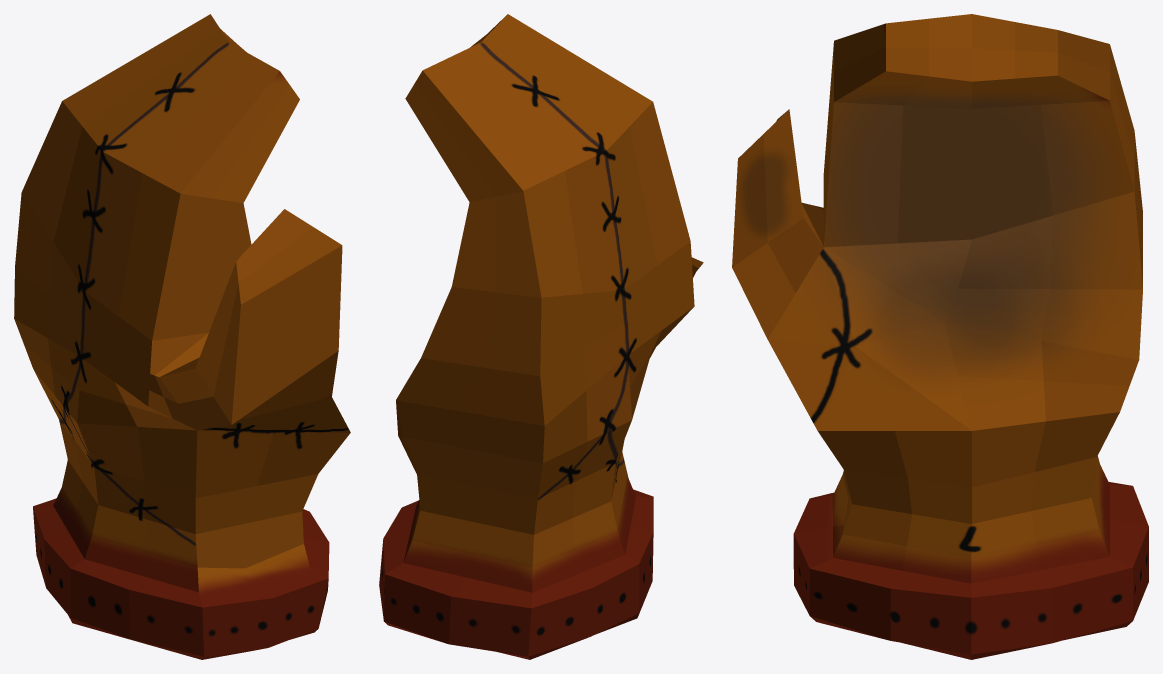
Rendered from bomb_glove.glb.
The picture shows the model from 3 angles, left to right: view 1: azimuth 30°, elevation 25°; view 2: azimuth 150°, elevation 25°; view 3: azimuth 270°, elevation 25°; orthographic projection. The views are drawn at different scales.
Visible parts, largest first — view 1: BombGlove; view 2: BombGlove; view 3: BombGlove.
Part boxes in pixels (left/top/right/bottom): BombGlove: left=14, top=14, right=350, bottom=659; BombGlove: left=379, top=14, right=703, bottom=659; BombGlove: left=732, top=14, right=1148, bottom=659.
Size of the model in its own units: 2.13 by 4.55 by 2.81.
1 material, 1 textured.
